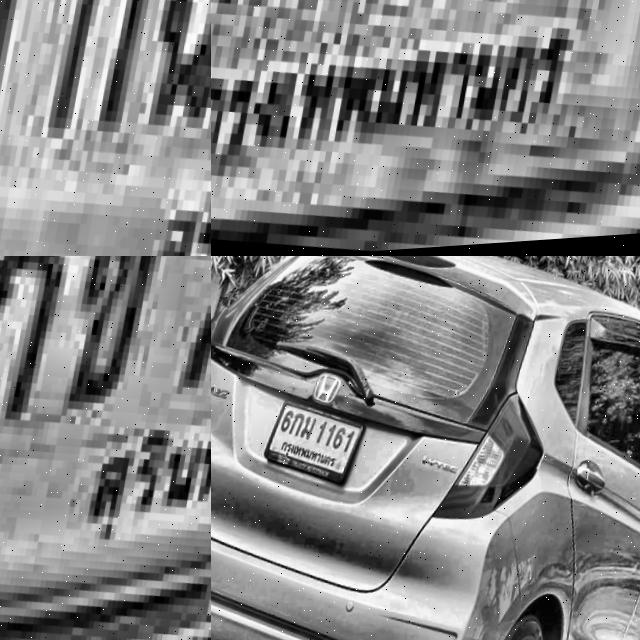license-plate: (211, 0, 640, 256), (0, 256, 211, 640), (0, 0, 211, 256), (258, 391, 374, 496)
